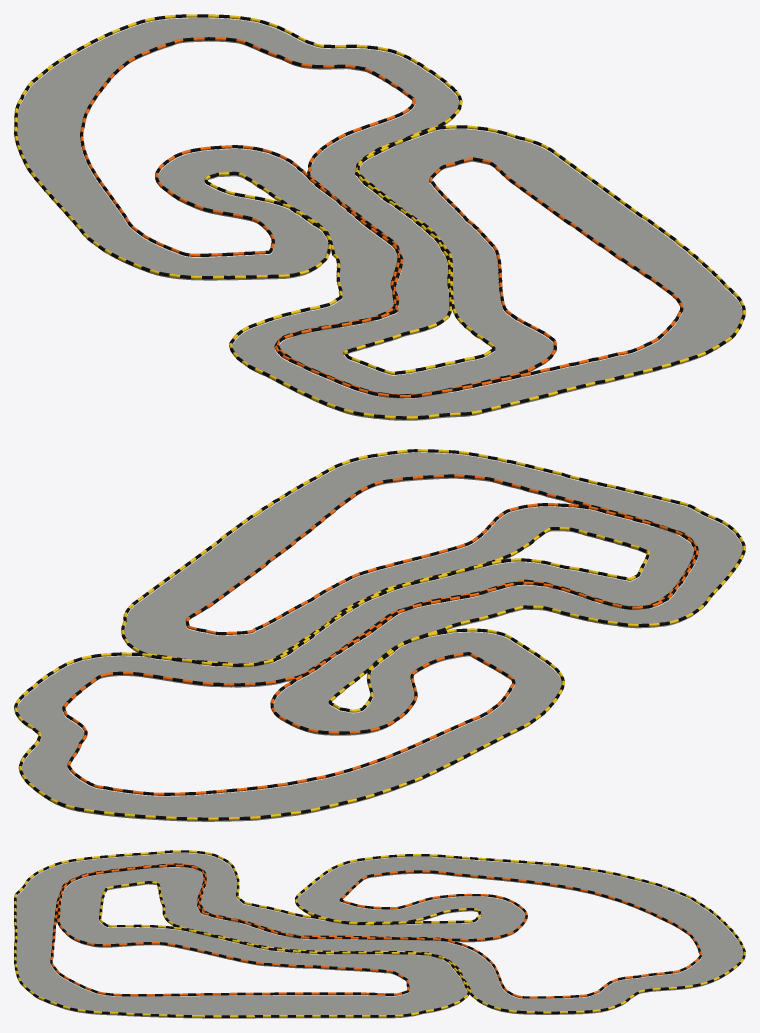
Rendered from iros2026_track.obj.
3 renders of one model, top to bottom at view 1: azimuth 30°, elevation 25°; view 2: azimuth 150°, elevation 25°; view 3: azimuth 270°, elevation 25°, orthographic. The views are drawn at different scales.
Parts seen in each view (by area): view 1: Track_Surface, Outer_Barrier, Inner_Barrier; view 2: Track_Surface, Outer_Barrier, Inner_Barrier; view 3: Track_Surface, Outer_Barrier, Inner_Barrier.
Boxes of the visible parts, x1,y1,x2,y2 form: Track_Surface: (17,18,742,420); Outer_Barrier: (14,14,745,419); Inner_Barrier: (80,37,683,398); Track_Surface: (17,452,742,821); Outer_Barrier: (14,449,745,820); Inner_Barrier: (62,474,698,795); Track_Surface: (16,853,743,1018); Outer_Barrier: (14,850,745,1017); Inner_Barrier: (50,863,702,998).
Size of the model in its own units: 23.79 by 0.2524 by 44.29.
